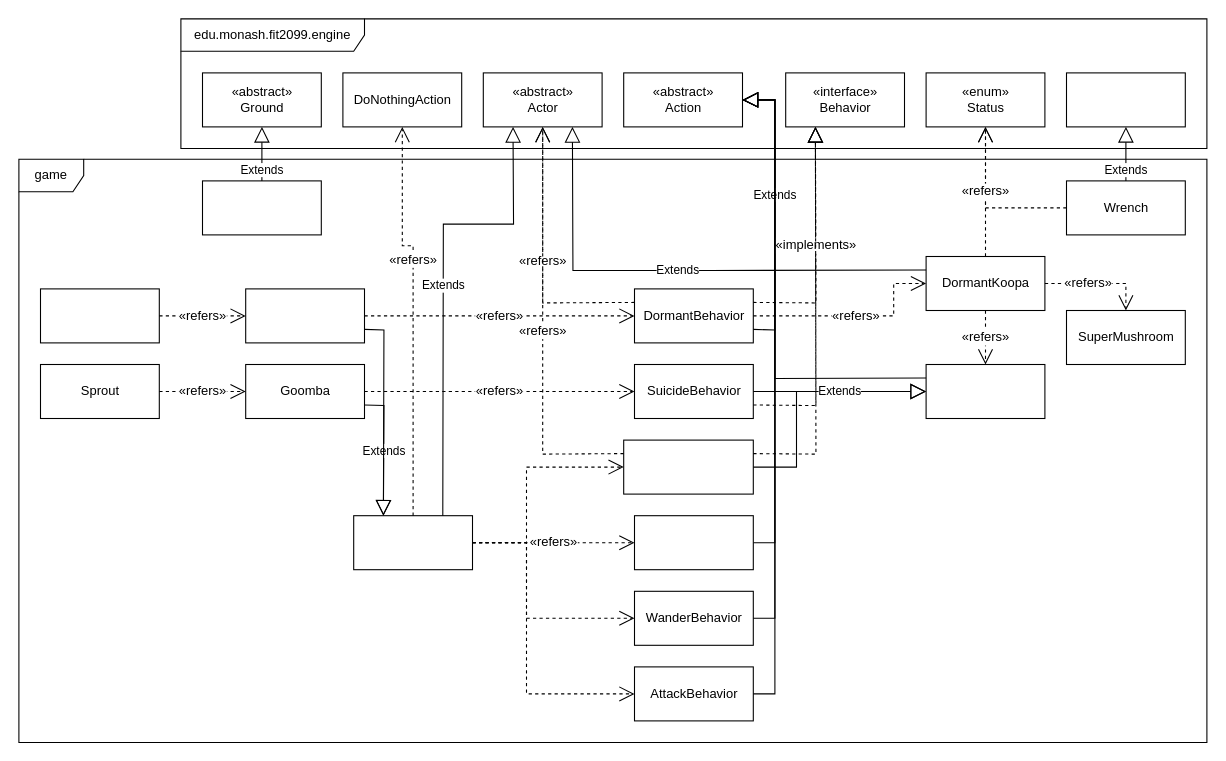
This 1226x761 diagram has some shape labels left out. Here are the shapes that lost their labels. From the top down, the centre of each, then its label:
At (1125,99): "«abstract» Item".
At (261,207): "Floor".
At (99,315): "Mature".
At (304,315): "Koopa".
At (985,390): "DefeatAction".
At (688,466): "UnconsciousBehavior".
At (413,542): "«abstract» Enemy".
At (693,542): "FollowBehavior".
